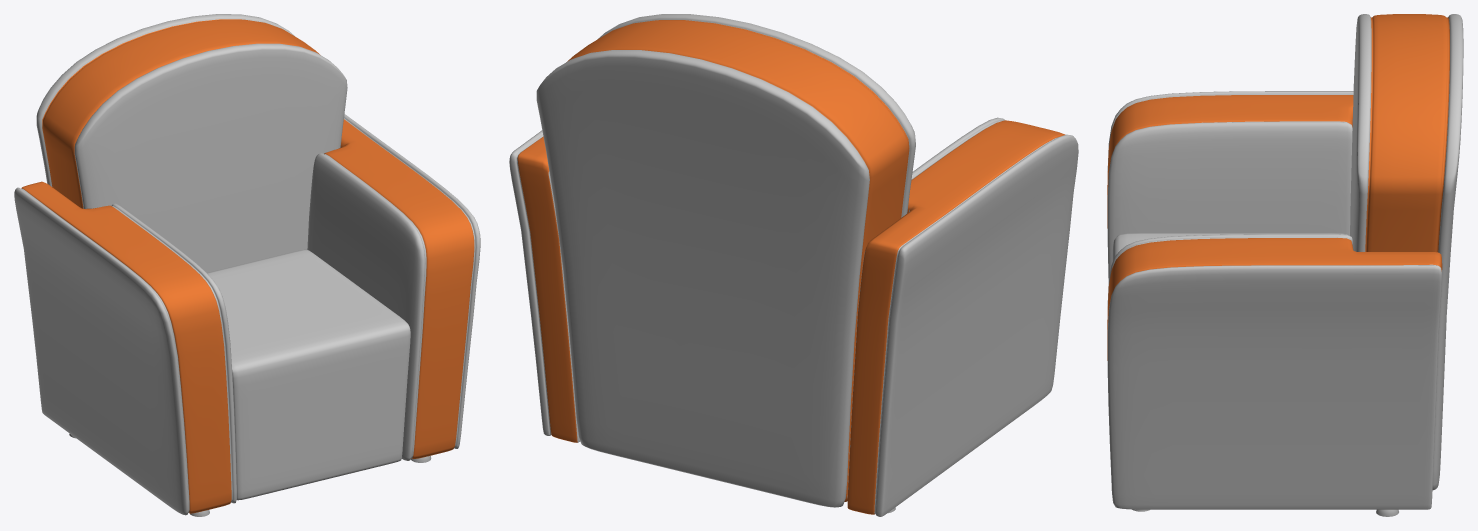
File: armchair.fbx
3 views of the same model, side by side, from view 1: azimuth 30°, elevation 25°; view 2: azimuth 150°, elevation 25°; view 3: azimuth 270°, elevation 25° (orthographic). The views are drawn at different scales.
Parts seen in each view (by area): view 1: armchair; view 2: armchair; view 3: armchair.
Part boxes in pixels (x1,y1,x2,y2): armchair: (14, 14, 480, 516); armchair: (509, 14, 1078, 516); armchair: (1107, 14, 1463, 516).
Size of the model in its own units: 1.48 by 1.57 by 1.26.
